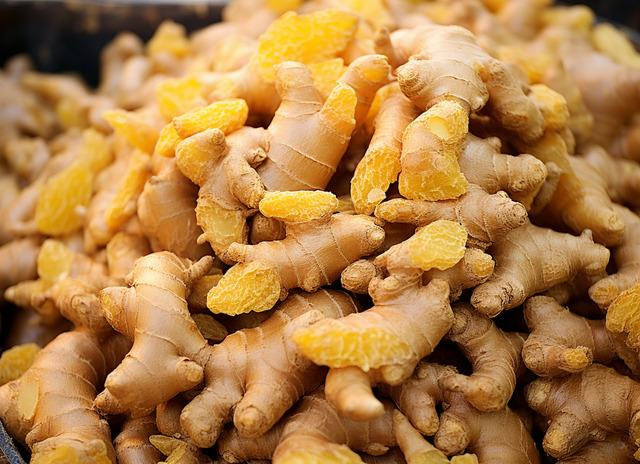ginger: (1, 1, 640, 464)
